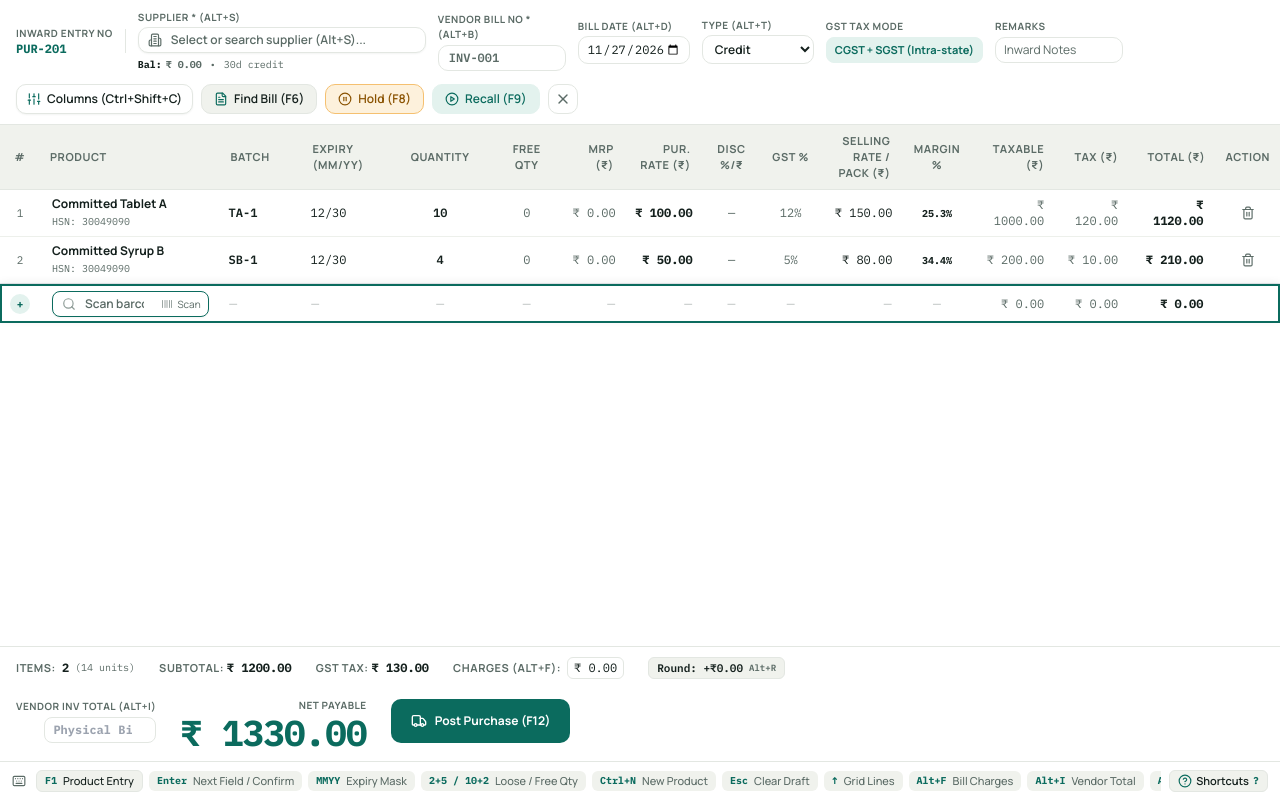
Test case: Purchase entry row is not on the bill until committed (PUR-03) › totals and the supplier-total check exclude a line still in the entry row
Step 1. Type "8909000000099" into the field with placeholder "Scan barcode or type product name [F1]..." → (130,304), box [52,291,209,317]
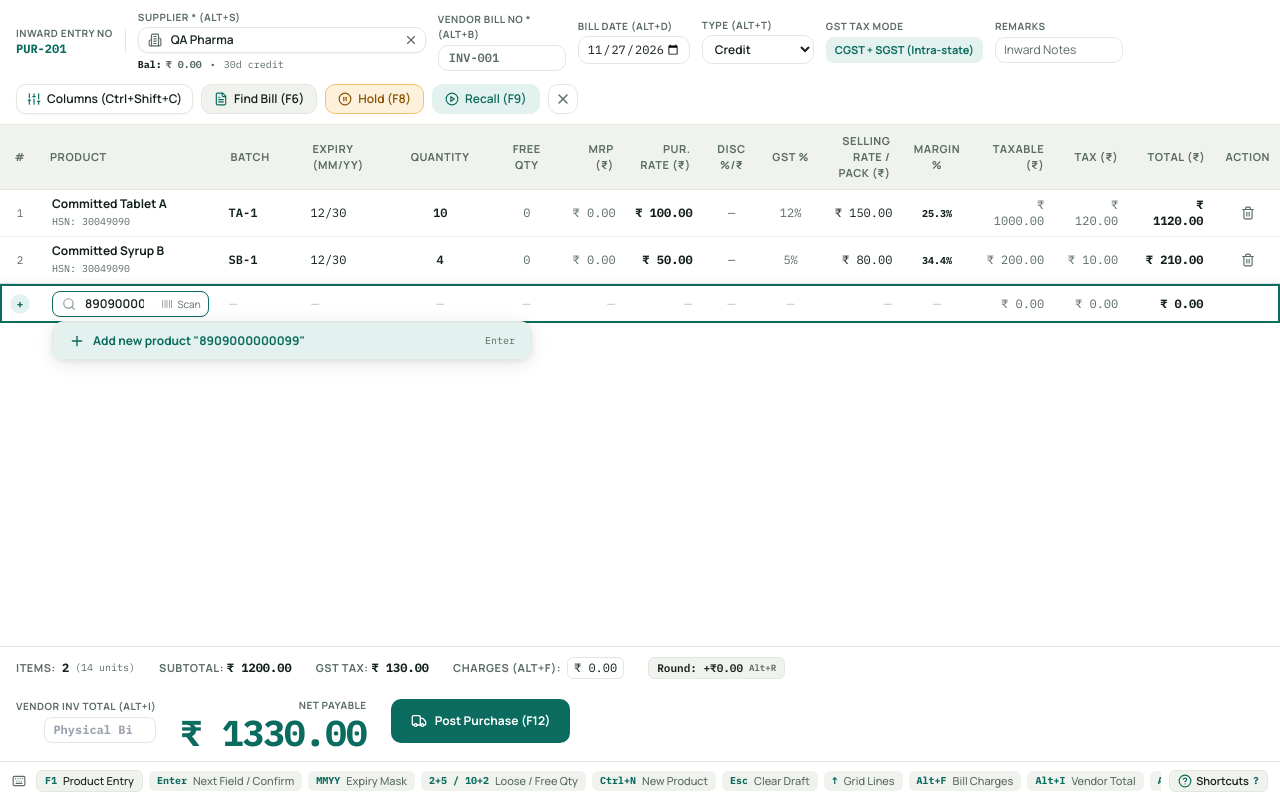
Step 2. Press Enter in the field with placeholder "Scan barcode or type product name [F1]...", box [52,291,209,317]
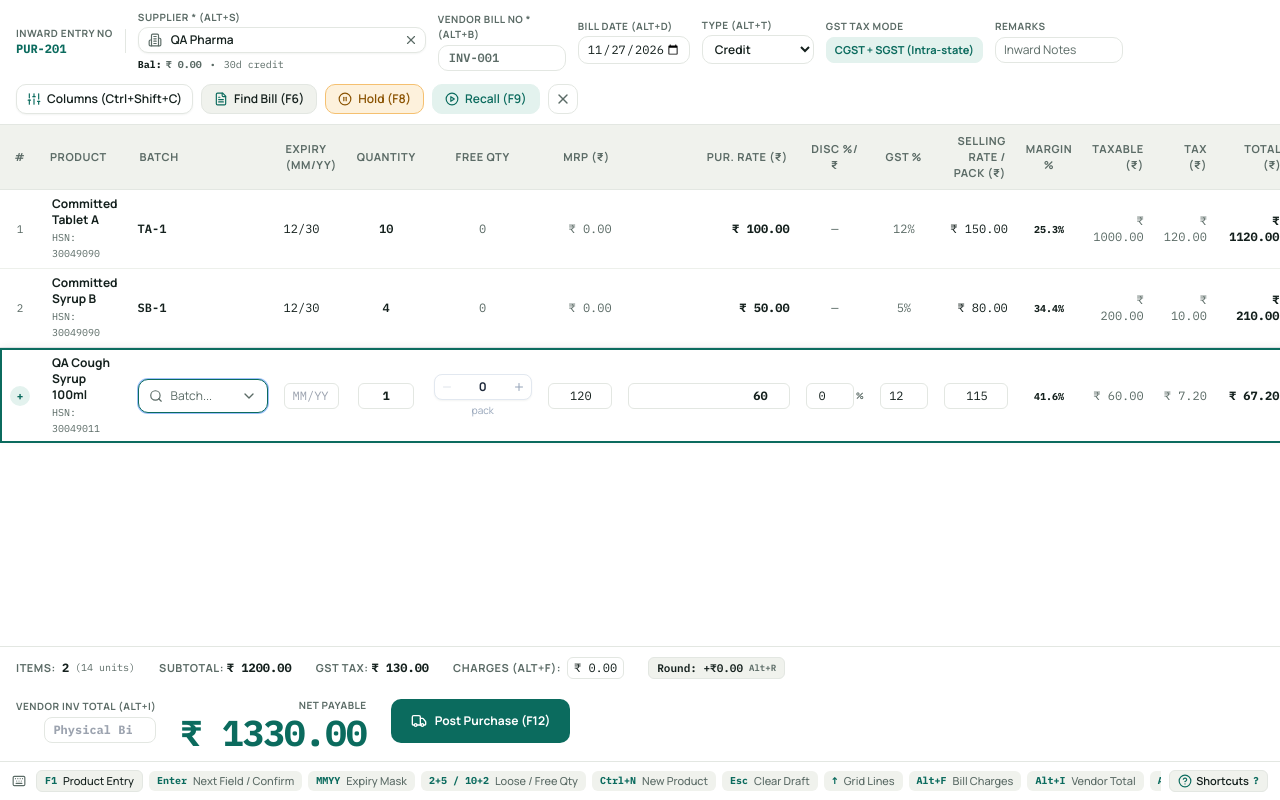
Result: the dropdown labelled "Batch..." is shown
Step 3. Press i in the dropdown labelled "Batch...", box [138,379,268,413]
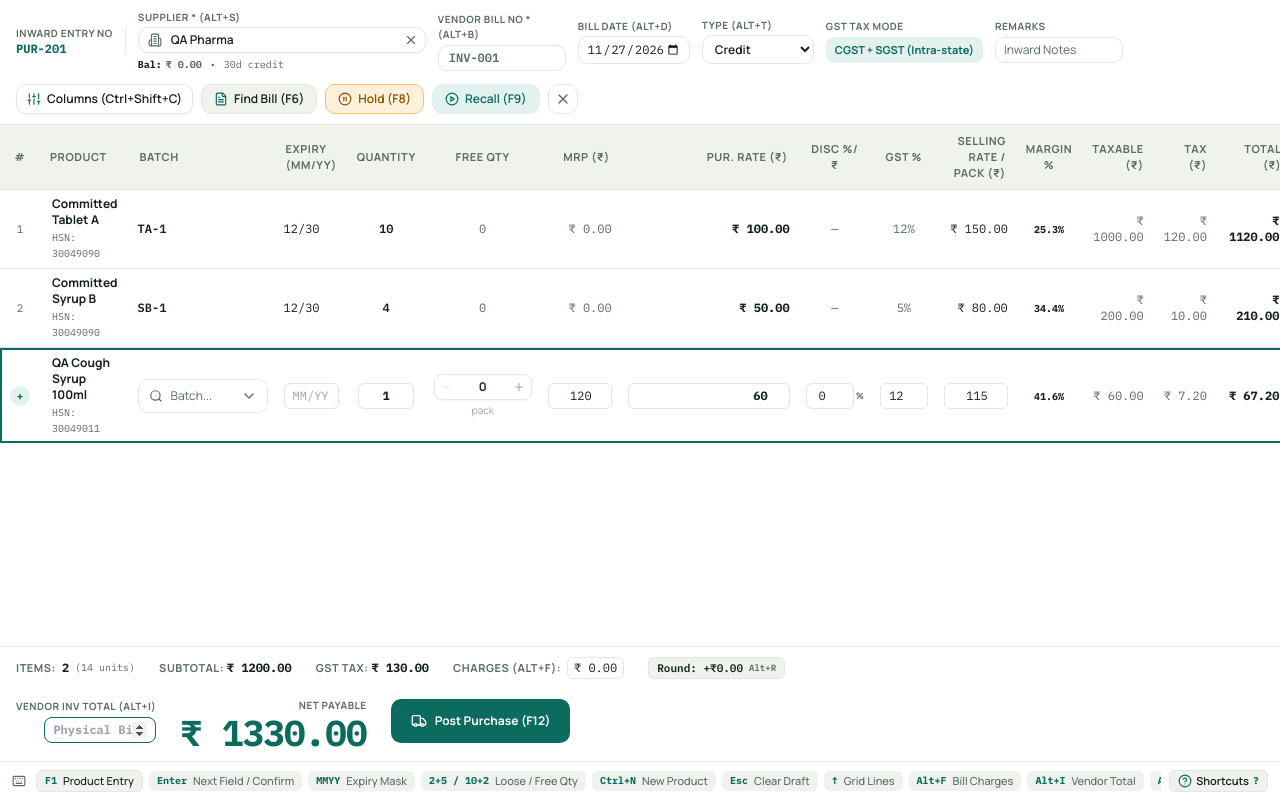
Step 4. Type "1330" into the number field with placeholder "Physical Bill Total" → (100,730), box [44,717,156,743]
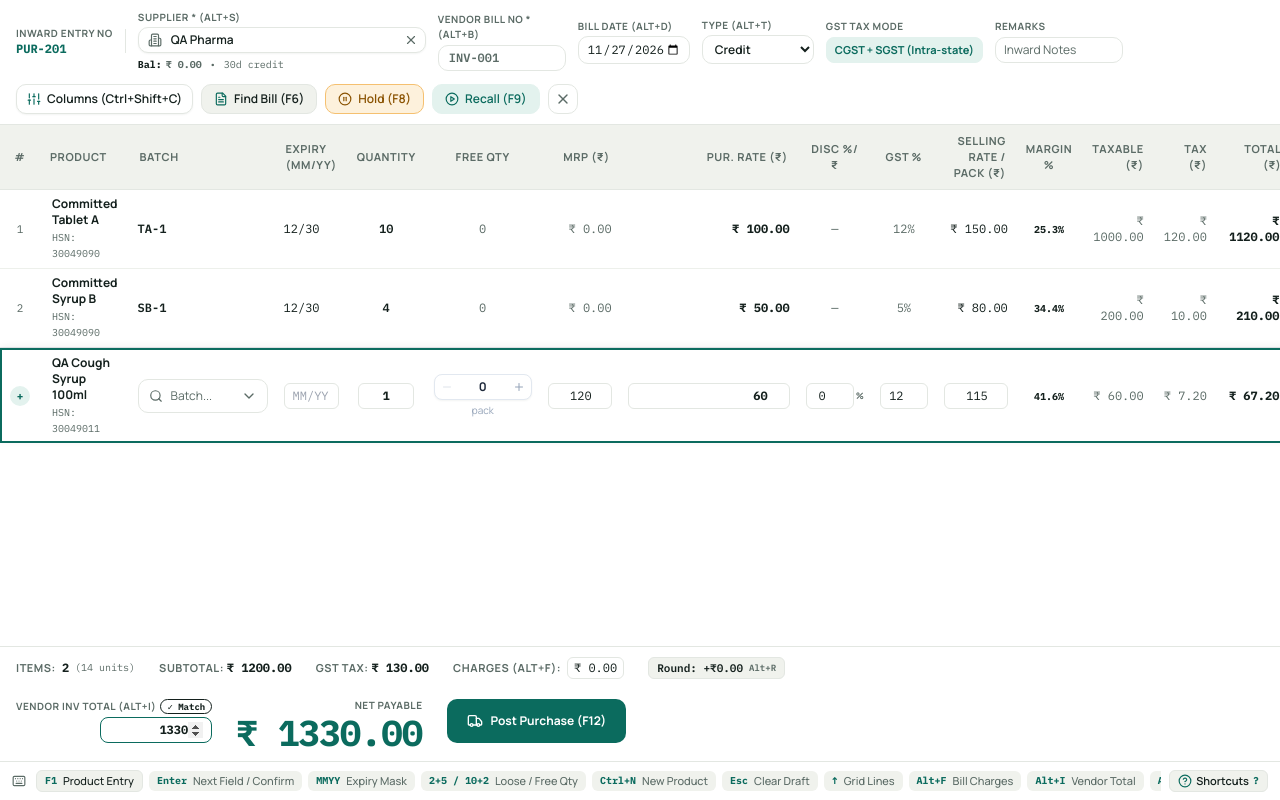
Result: the text "✓ Match" is shown at [160,699,212,714]
